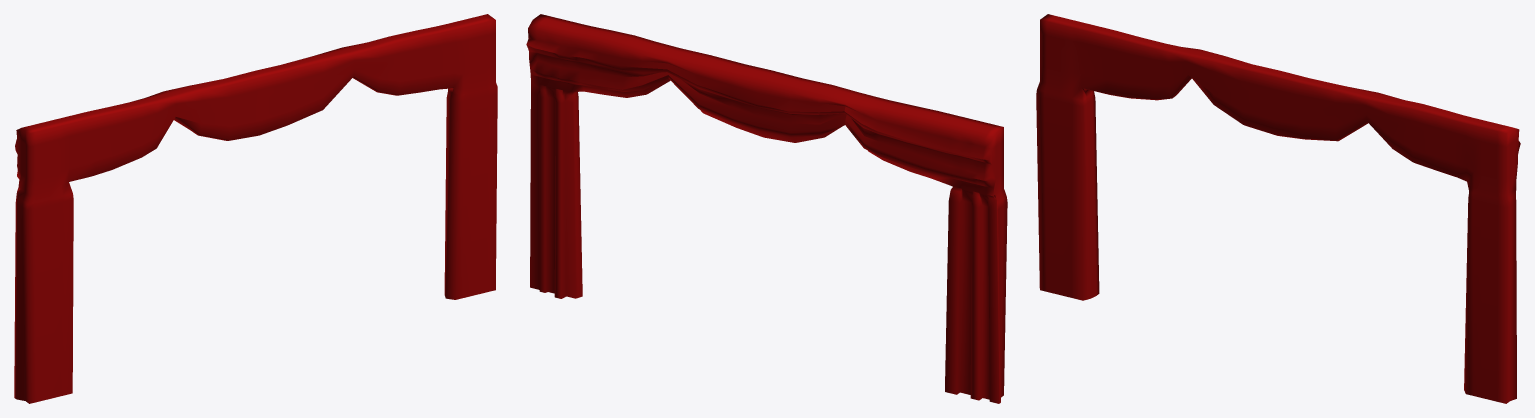
The model's file is TheaterGordijn2.fbx.
3 views of the same model, side by side, from view 1: azimuth 30°, elevation 25°; view 2: azimuth 150°, elevation 25°; view 3: azimuth 330°, elevation 25° (orthographic).
Parts seen in each view (by area): view 1: gordijn; view 2: gordijn; view 3: gordijn.
Part boxes in pixels (<box>): gordijn: <box>14,14,497,403</box>; gordijn: <box>526,14,1007,403</box>; gordijn: <box>1036,14,1520,403</box>.
Size of the model in its own units: 42.65 by 23.35 by 2.35.
